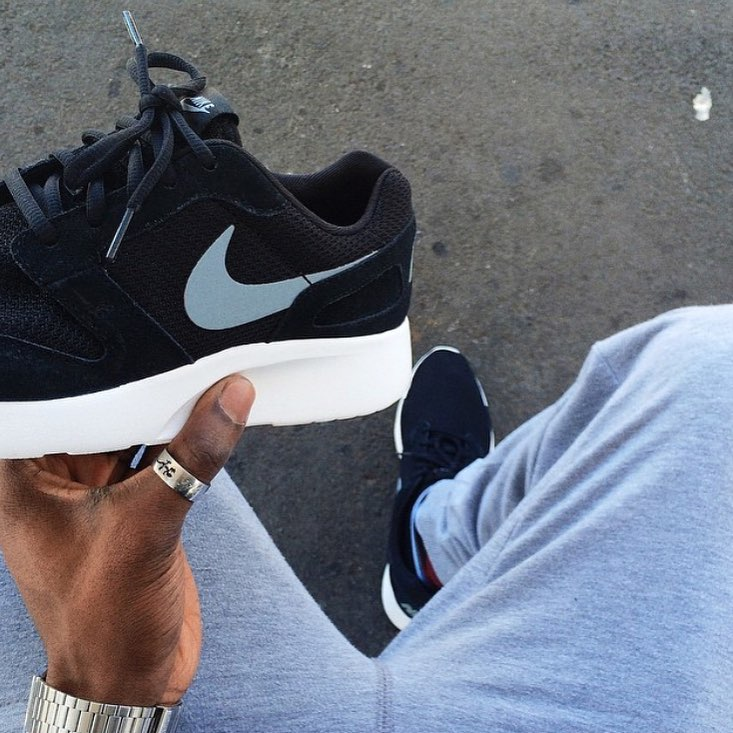sneaker: (358, 329, 521, 645)
